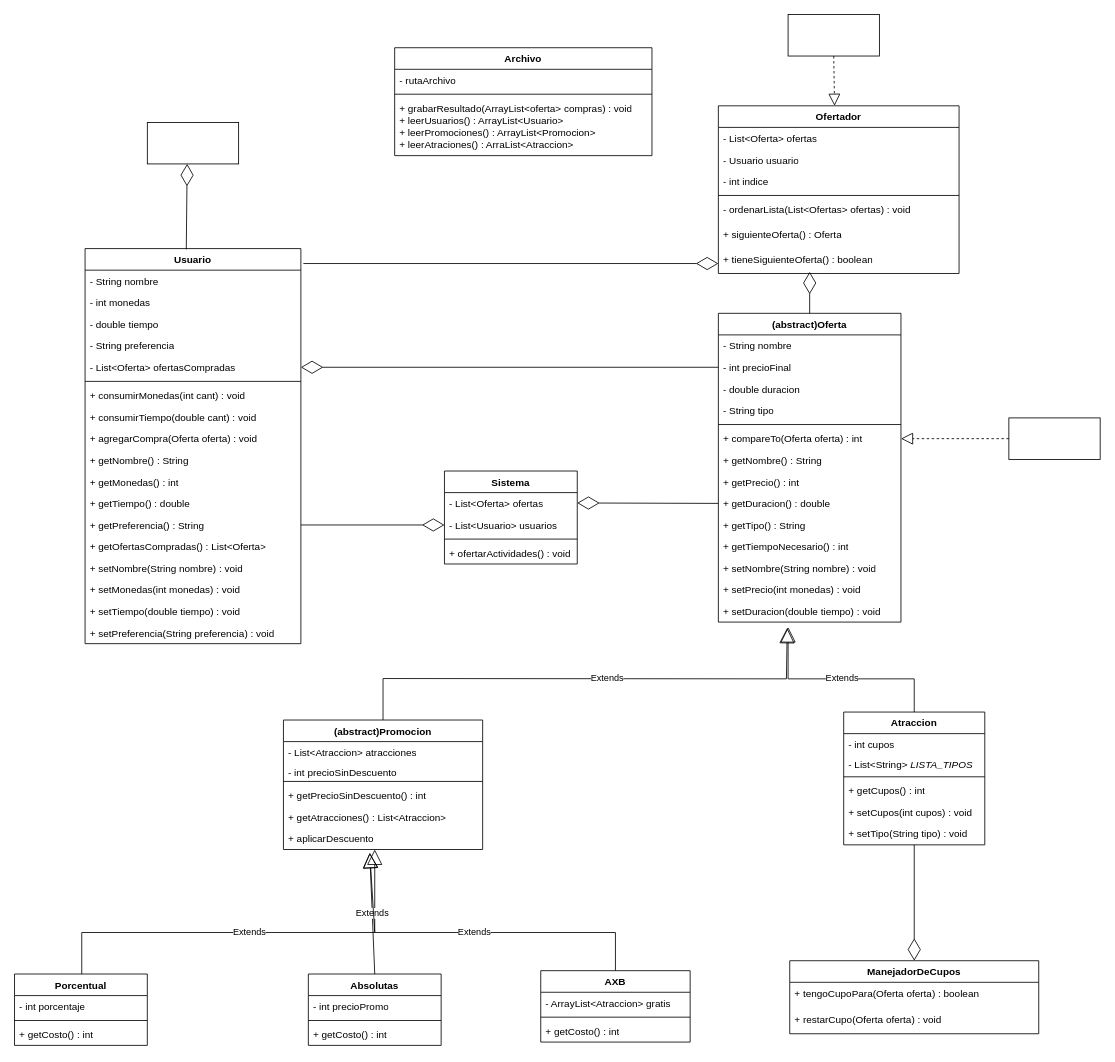
The diagram is 1115 pixels wide and 1062 high, and some of its shapes have lost their labels. Each missing label, with the centre of its shape:
DatosDescargados: [192,143]
«interface» IComparable: [1054,438]
«interface» IteratorOferta: [833,35]
